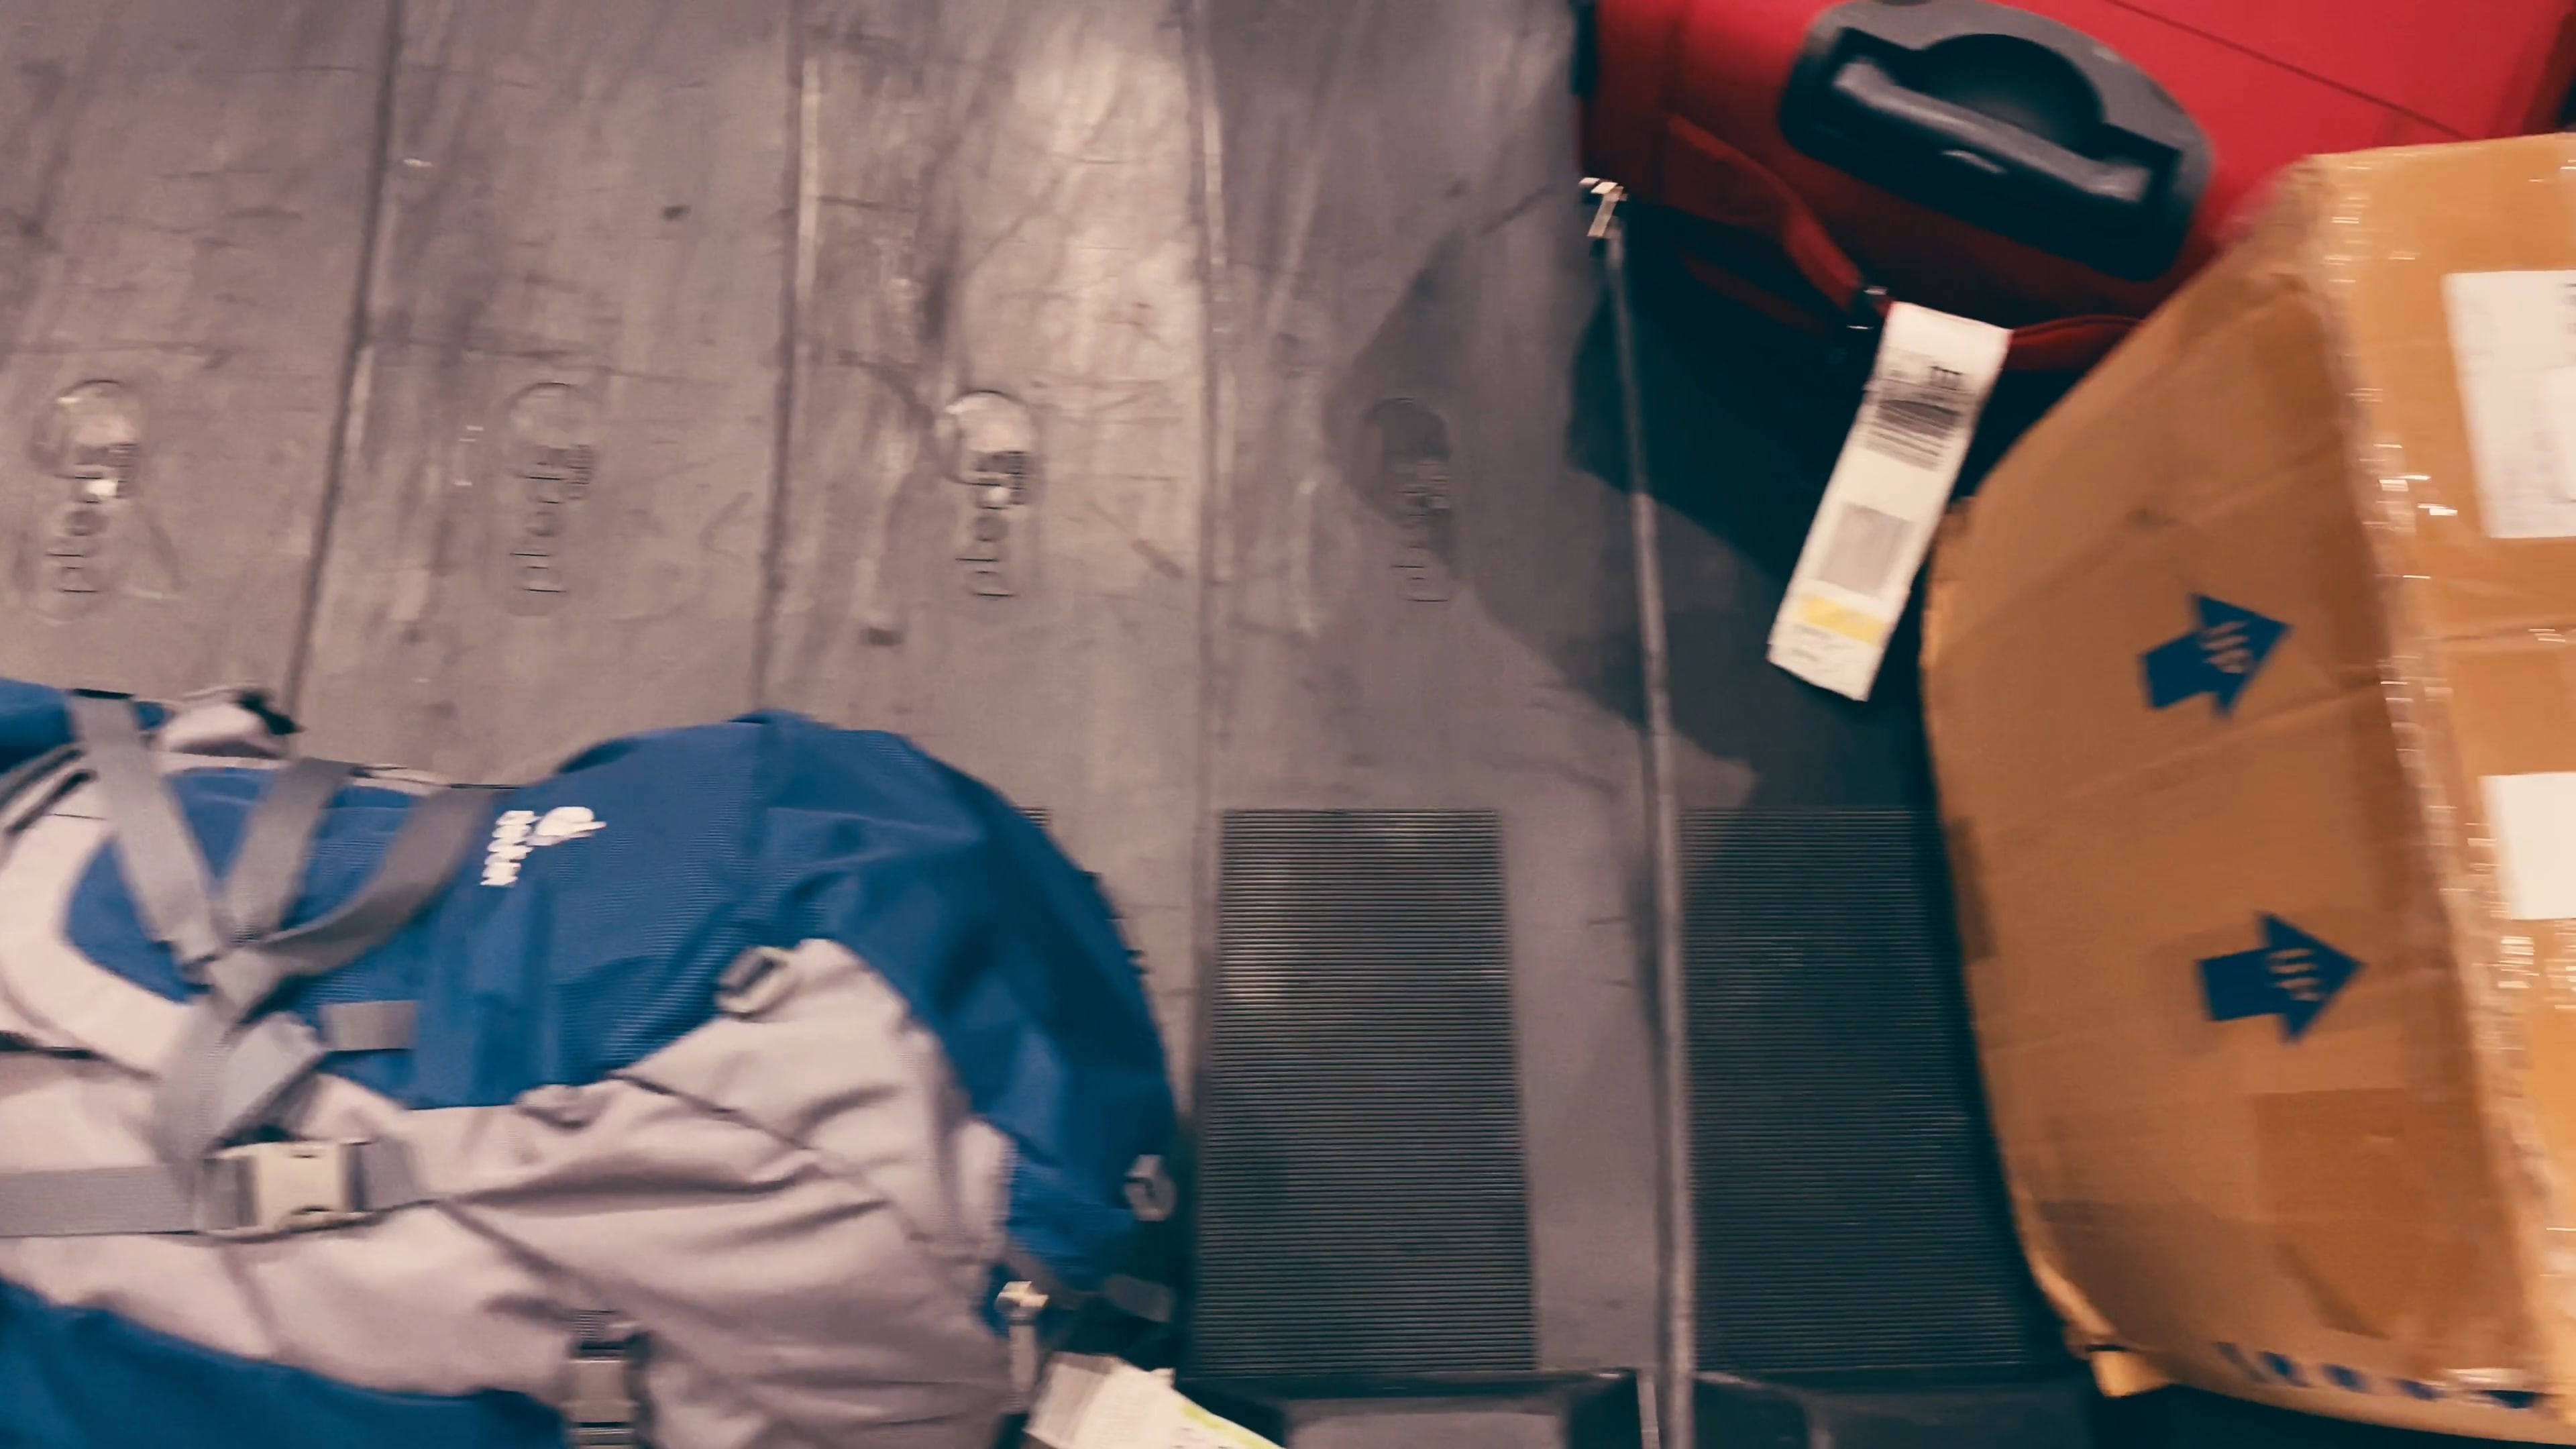baggage: (18, 658, 1178, 1449)
